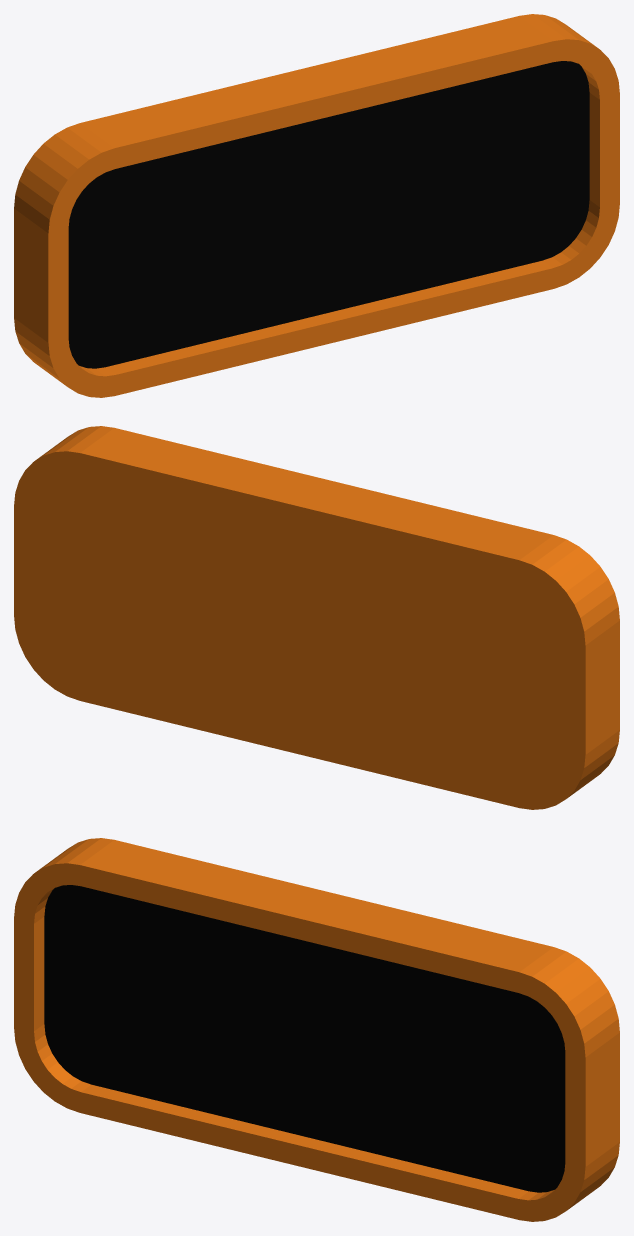
File: lab-door-display.glb
3 renders of one model, top to bottom at view 1: azimuth 30°, elevation 25°; view 2: azimuth 150°, elevation 25°; view 3: azimuth 330°, elevation 25°, orthographic.
Parts seen in each view (by area): view 1: Cube; view 2: Cube; view 3: Cube.
Part boxes in pixels (bbox=[...]): Cube: bbox=[14, 14, 619, 397]; Cube: bbox=[14, 426, 619, 809]; Cube: bbox=[14, 838, 619, 1221].
Bounding box in the file's own units: 1 × 0.4145 × 0.1045.
